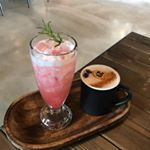cups: (26, 30, 79, 132), (76, 62, 132, 117)
